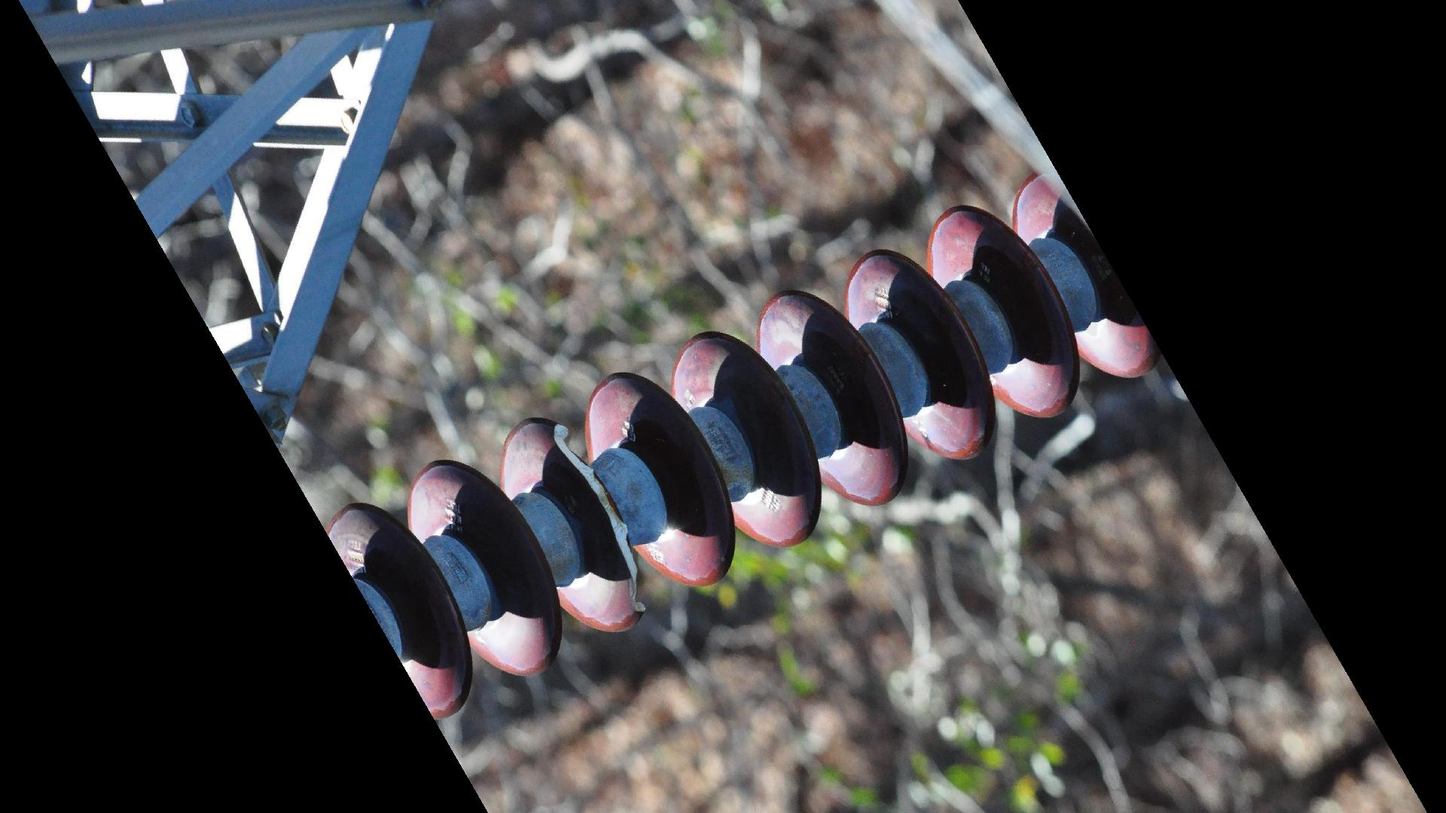insulator: (320, 166, 1156, 722)
insulator_breakage: (541, 416, 657, 628)
